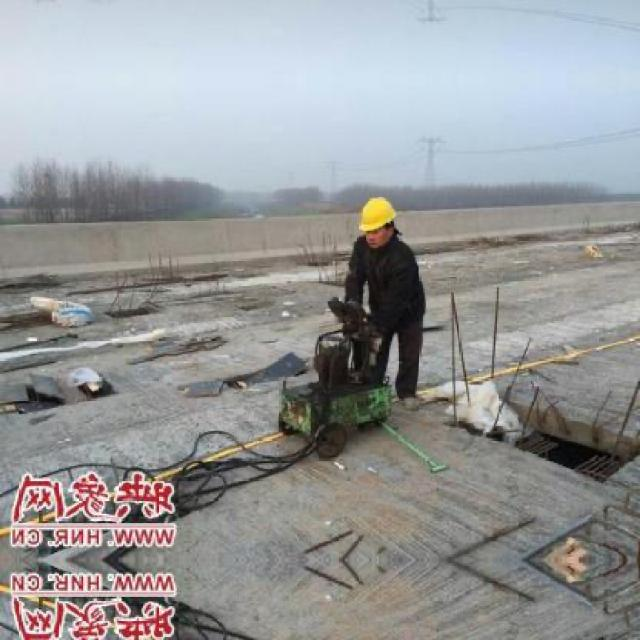helmet: (358, 192, 400, 250)
